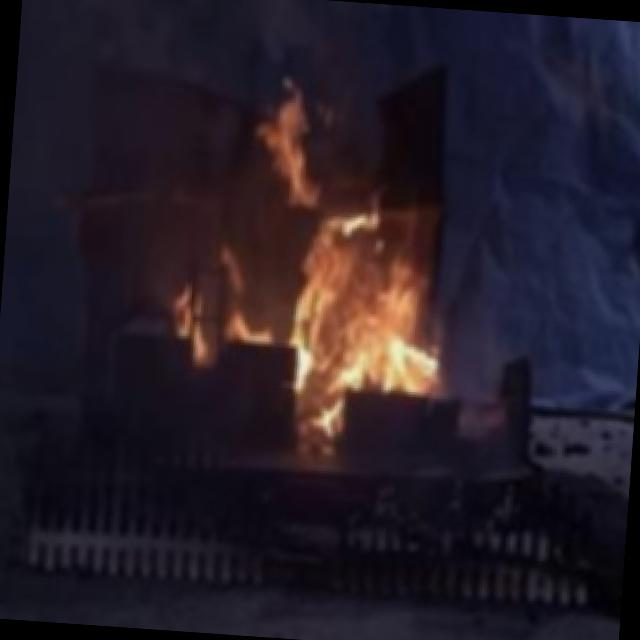fire: (218, 114, 448, 428)
